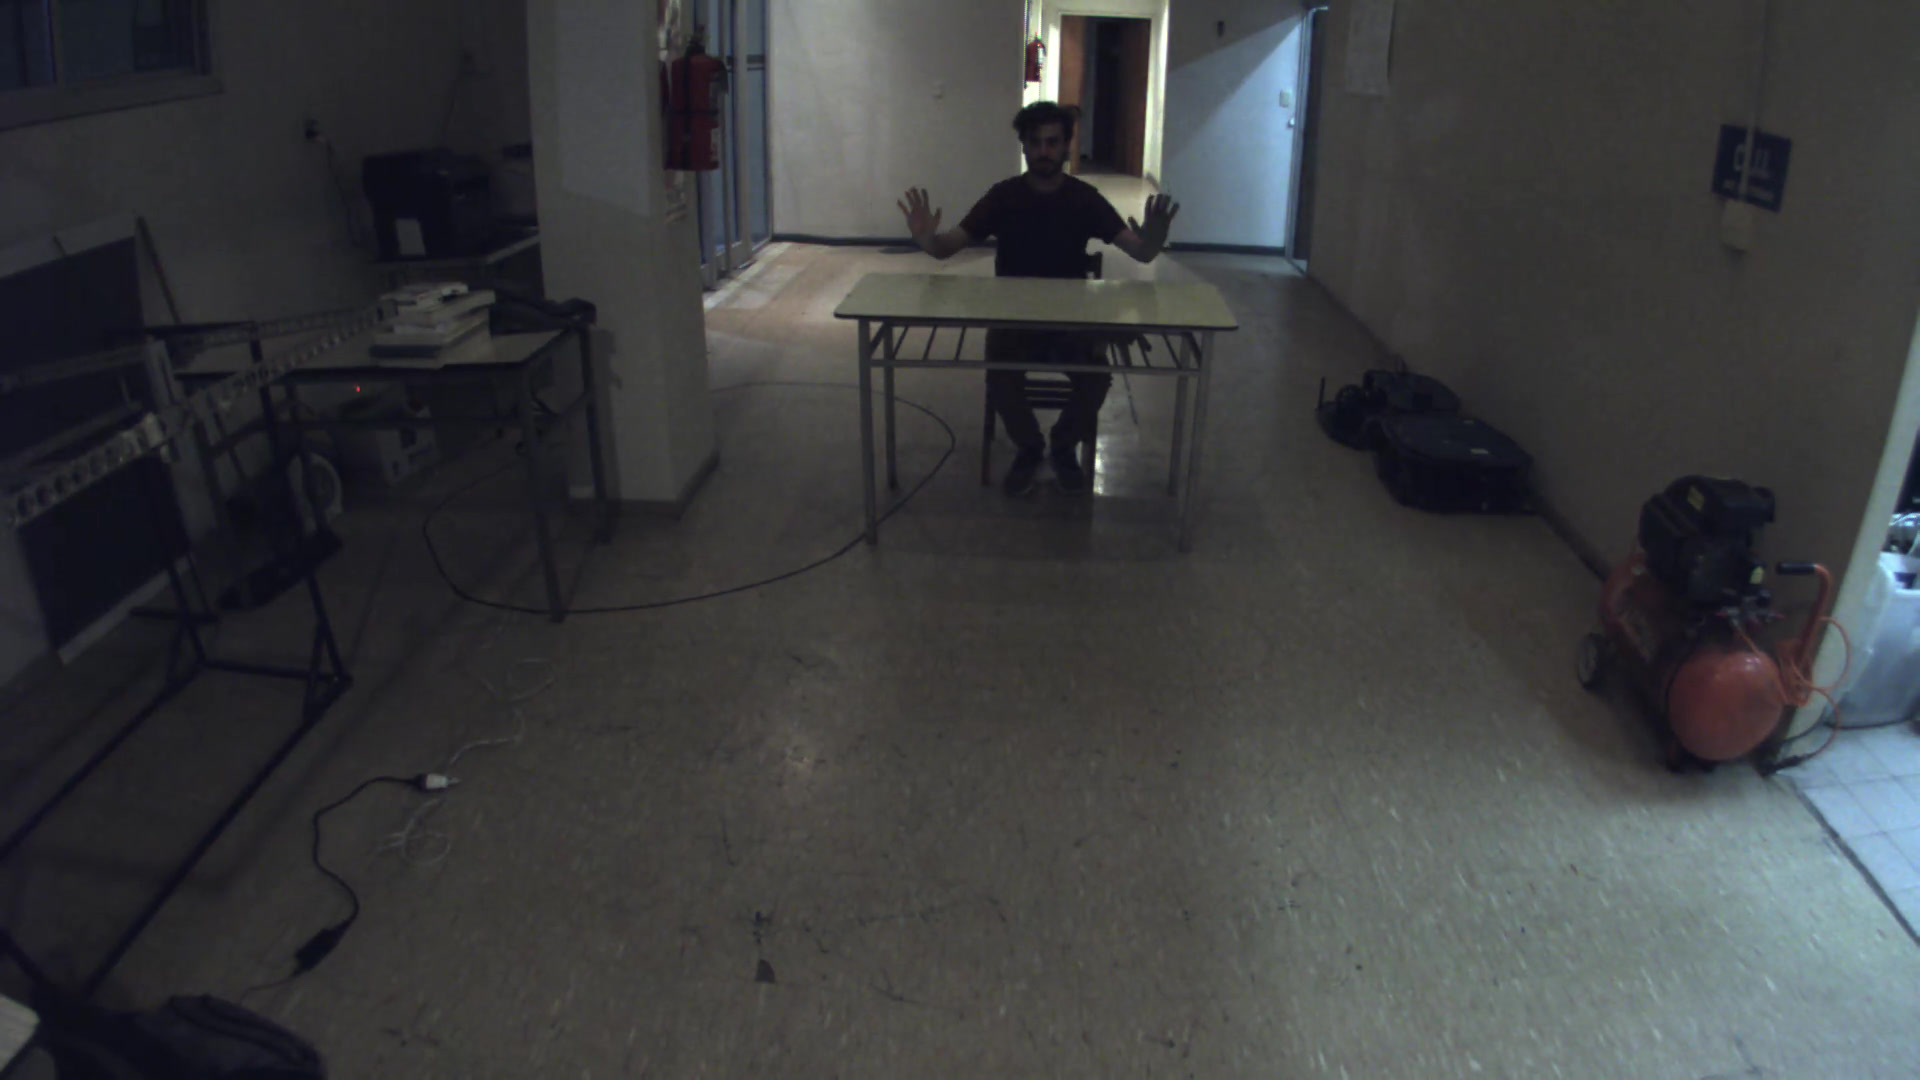hand: (1120, 185, 1192, 260), (889, 182, 955, 251)
